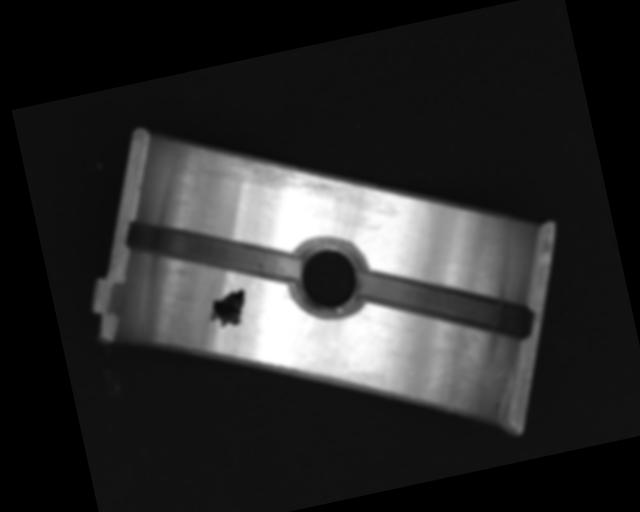blot: (202, 286, 251, 332)
gap: (357, 241, 534, 368), (123, 189, 301, 309)
hole: (283, 228, 375, 325)
scratch: (190, 117, 357, 222)
